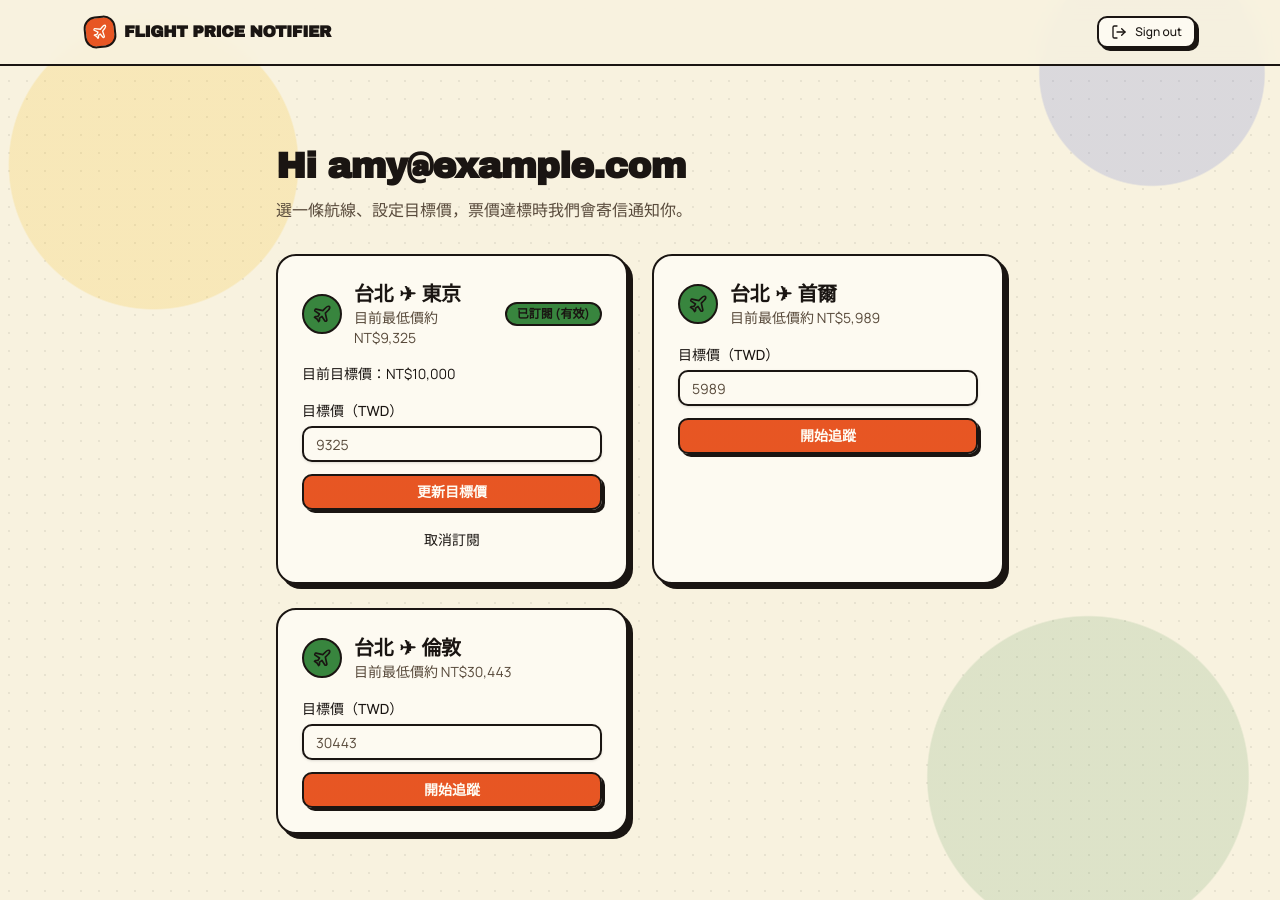
it: Dashboard subscribed state › a JSON answer updates the card in place, without refetching the list
The width and height of the screenshot is (1280, 900).
expect the text "目前目標價：NT$10,000" is shown: met, box [302, 364, 456, 383]
Type "8000" into the field labelled "目標價（TWD）" below "目前目標價：" at [452, 444], box [302, 426, 602, 462]
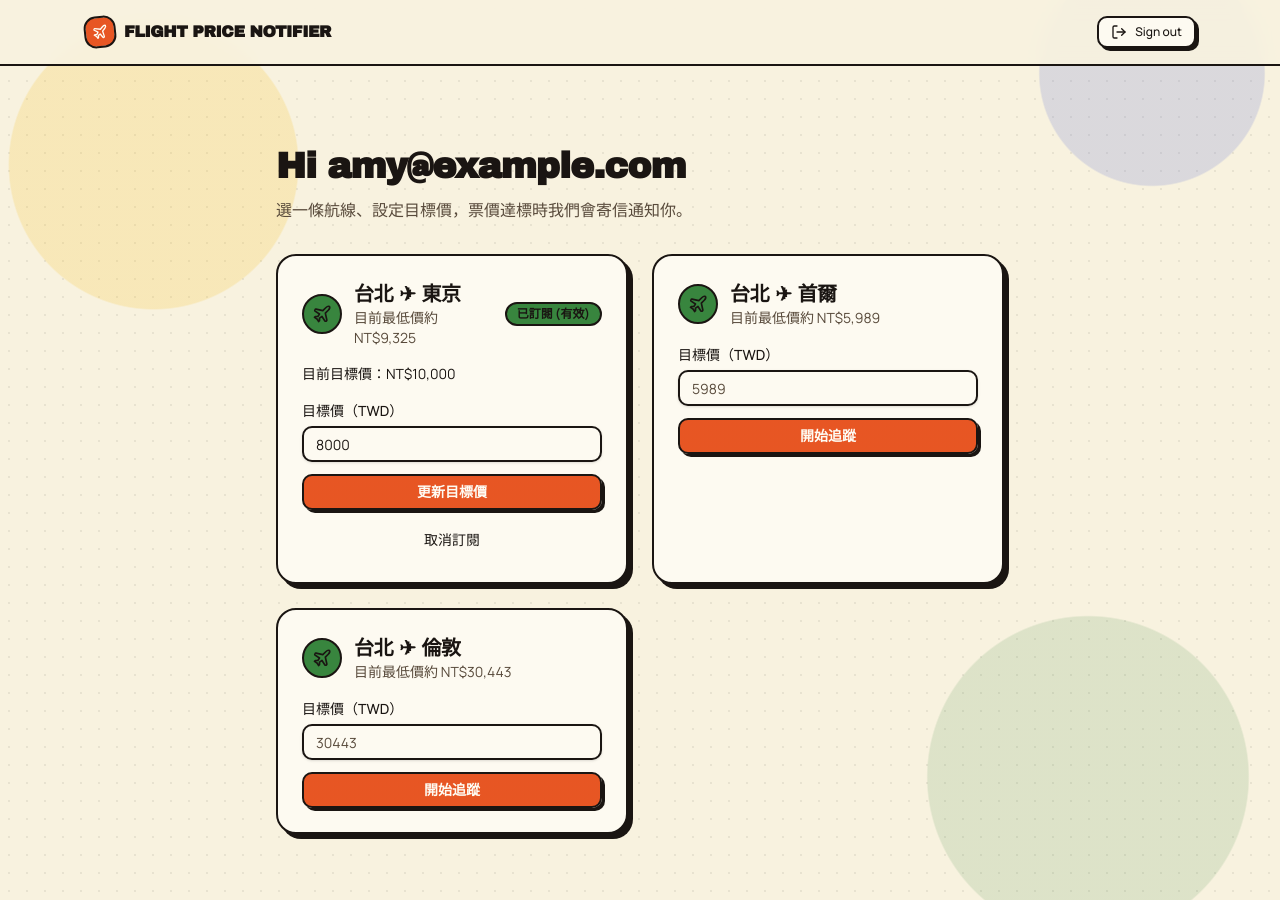
Click the button "更新目標價" at [452, 492], box [302, 474, 602, 510]
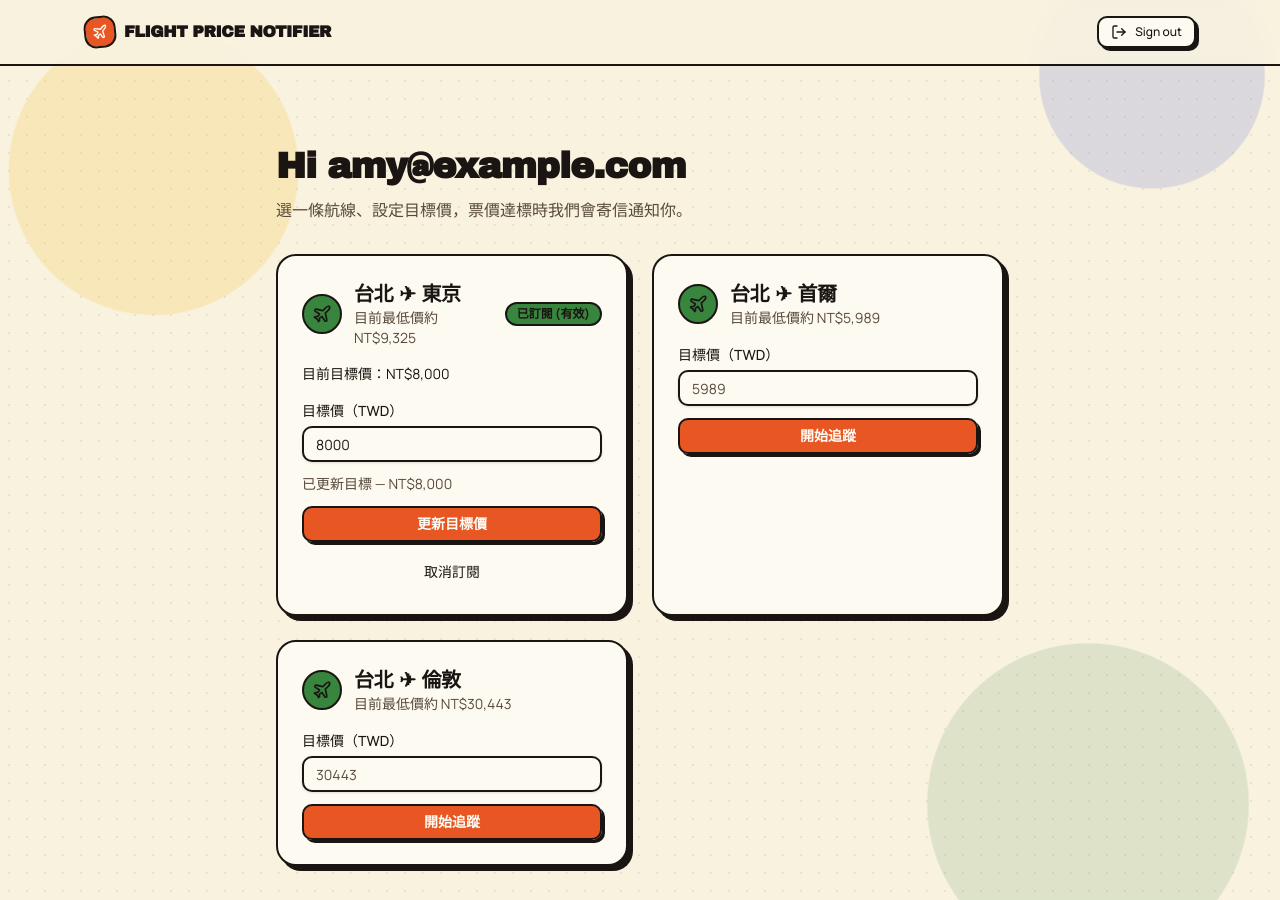
expect the text "已訂閱 (有效)" is shown: met, box [505, 302, 602, 326]
expect the text "目前目標價：NT$8,000" is shown: met, box [302, 364, 450, 383]
expect the text "目前目標價：NT$10,000" is gone: met
